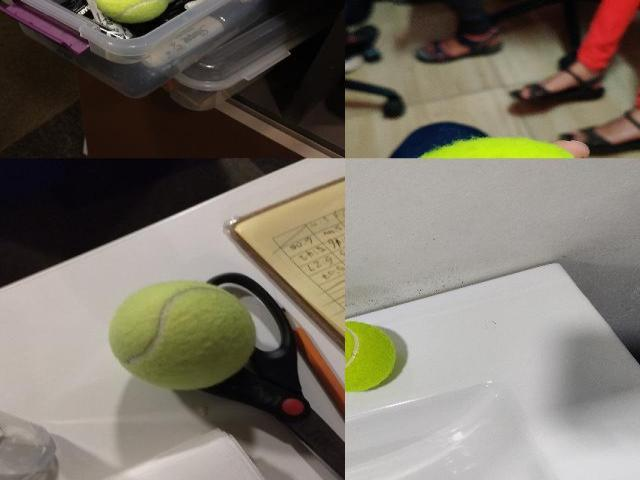tennis-ball: (108, 279, 257, 390), (345, 320, 397, 393), (422, 136, 576, 156), (93, 0, 172, 23)
